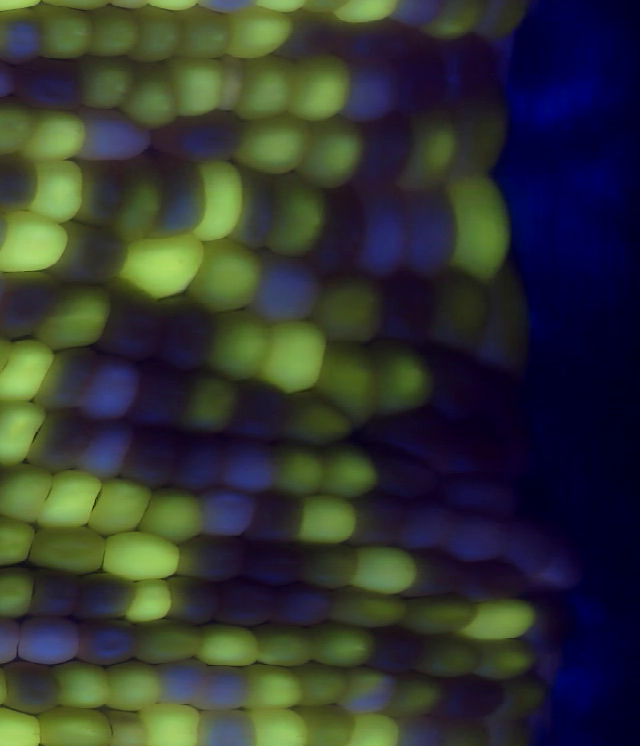fluorescent: (448, 176, 518, 292), (192, 228, 271, 316), (316, 344, 393, 434), (430, 260, 500, 353), (447, 85, 515, 180), (121, 230, 209, 301), (369, 332, 438, 422), (315, 265, 389, 345), (479, 269, 534, 369), (400, 114, 465, 198), (299, 114, 366, 194), (100, 523, 189, 581), (23, 518, 112, 575), (40, 283, 114, 351), (212, 309, 278, 384), (236, 113, 315, 175), (194, 153, 249, 241), (35, 460, 104, 530), (138, 486, 211, 551), (120, 60, 185, 132), (413, 623, 491, 683), (271, 171, 325, 257), (293, 56, 355, 130), (0, 212, 74, 273), (225, 7, 306, 62), (262, 320, 322, 394), (87, 474, 153, 538), (35, 4, 102, 67), (27, 154, 89, 222), (32, 699, 119, 746), (184, 367, 241, 438), (0, 336, 56, 407), (0, 461, 61, 524), (349, 542, 420, 596), (238, 52, 295, 119), (166, 56, 229, 116), (248, 622, 324, 671), (289, 394, 362, 445), (300, 493, 362, 550), (23, 106, 88, 160), (52, 659, 119, 710), (85, 4, 146, 60), (177, 8, 243, 59), (197, 621, 263, 672), (237, 662, 303, 713), (269, 441, 327, 499), (133, 615, 206, 661), (71, 56, 137, 106), (403, 592, 481, 634), (134, 6, 185, 70), (102, 662, 167, 712), (315, 444, 377, 496), (0, 399, 47, 467), (409, 1, 483, 44), (314, 625, 384, 670), (472, 596, 539, 643), (338, 590, 416, 629), (384, 675, 450, 721), (478, 631, 545, 676), (137, 699, 199, 746), (125, 575, 178, 629), (246, 706, 313, 746), (297, 664, 353, 711), (0, 95, 41, 156), (501, 675, 557, 714), (0, 512, 36, 571), (0, 566, 36, 622), (350, 711, 405, 746), (0, 703, 43, 746)
nonfluorescent: (373, 415, 496, 473), (401, 183, 468, 280), (386, 47, 462, 124), (153, 158, 217, 248), (314, 189, 373, 282), (254, 251, 326, 325), (355, 185, 411, 279), (104, 284, 169, 362), (159, 299, 229, 371), (475, 364, 540, 441), (441, 495, 515, 562), (497, 507, 574, 570), (353, 111, 414, 190), (73, 412, 137, 485), (429, 463, 517, 516), (340, 51, 402, 125), (151, 112, 244, 161), (374, 272, 437, 344), (453, 550, 531, 607), (335, 24, 455, 61), (166, 532, 248, 586), (0, 272, 62, 343), (65, 221, 127, 291), (71, 157, 129, 230), (134, 357, 190, 431), (175, 430, 235, 499), (78, 110, 155, 163), (79, 359, 139, 426), (377, 446, 443, 506), (438, 353, 492, 425), (236, 168, 281, 254), (39, 346, 104, 405), (31, 408, 93, 469), (124, 428, 183, 490), (245, 488, 310, 544), (242, 540, 308, 594), (76, 568, 144, 620), (193, 484, 256, 540), (230, 432, 287, 493), (225, 381, 282, 441), (0, 5, 47, 77), (66, 616, 138, 663), (392, 498, 457, 550), (368, 623, 438, 671), (17, 56, 83, 106), (6, 660, 62, 718), (0, 150, 47, 218), (348, 494, 403, 552), (444, 39, 504, 91), (153, 657, 210, 711), (271, 7, 329, 60), (32, 560, 84, 619), (215, 581, 280, 628), (443, 667, 504, 717), (162, 571, 220, 623), (21, 616, 80, 666), (273, 577, 335, 624), (345, 669, 395, 724), (190, 707, 260, 746), (407, 546, 455, 602), (202, 663, 253, 714), (394, 715, 441, 746)
